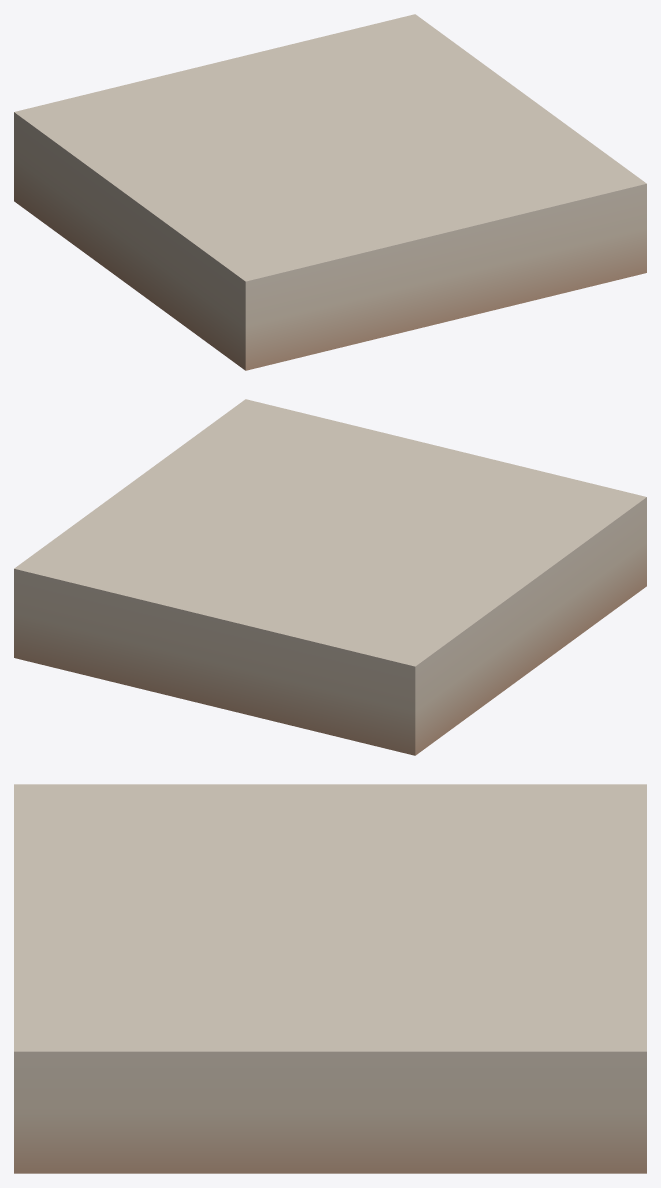
File: roof-flat-detail-d.glb
The picture shows the model from 3 angles, top to bottom: view 1: azimuth 30°, elevation 25°; view 2: azimuth 150°, elevation 25°; view 3: azimuth 270°, elevation 25°; orthographic projection. The views are drawn at different scales.
Parts seen in each view (by area): view 1: roof-flat-detail-d; view 2: roof-flat-detail-d; view 3: roof-flat-detail-d.
Part boxes in pixels (<box>): roof-flat-detail-d: <box>14,14,646,370</box>; roof-flat-detail-d: <box>14,399,646,755</box>; roof-flat-detail-d: <box>14,784,646,1173</box>.
Bounding box in the file's own units: 1 × 0.2125 × 1.
